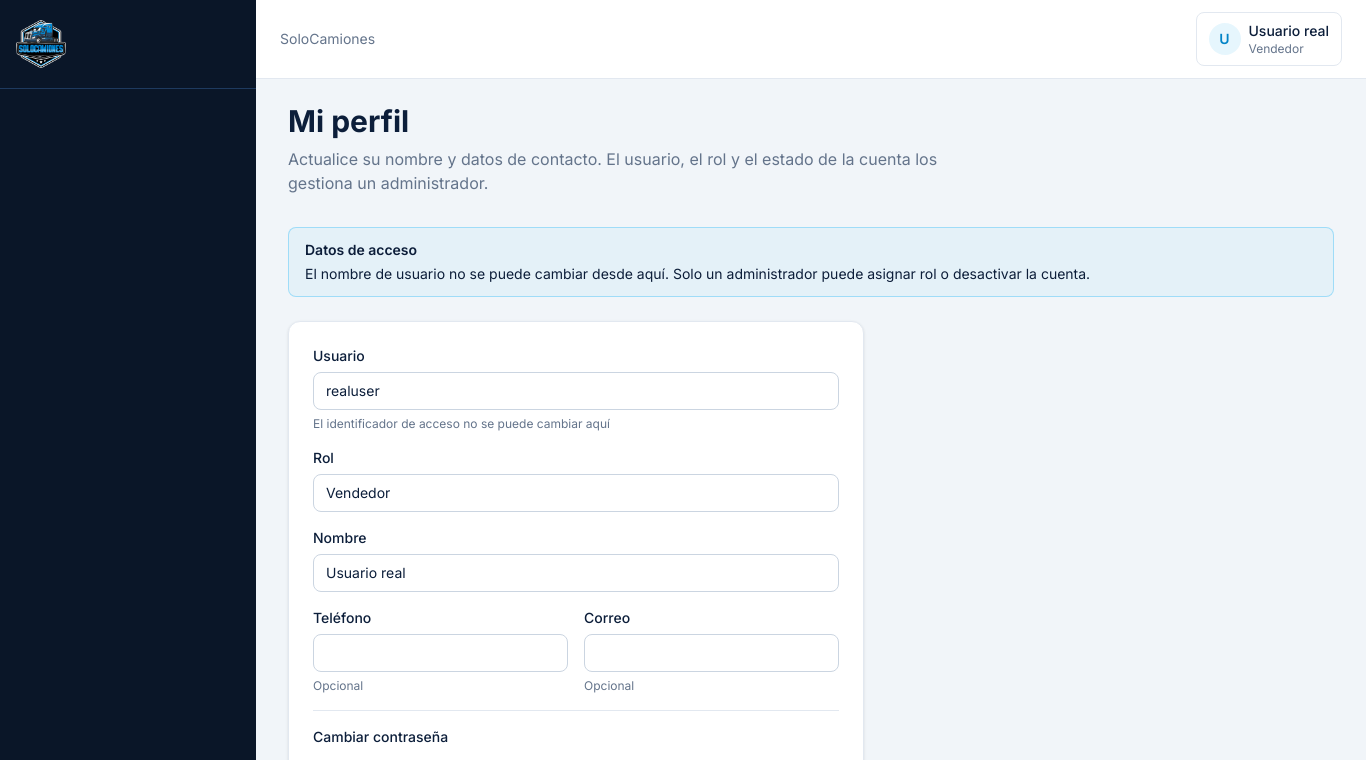
Test: Release 1 HTTP auth UI › a failed logout retains the session and reports the connection error
The width and height of the screenshot is (1366, 760).
Click the button with aria-label "Cuenta de": (1269, 39) [1196,12,1342,66]
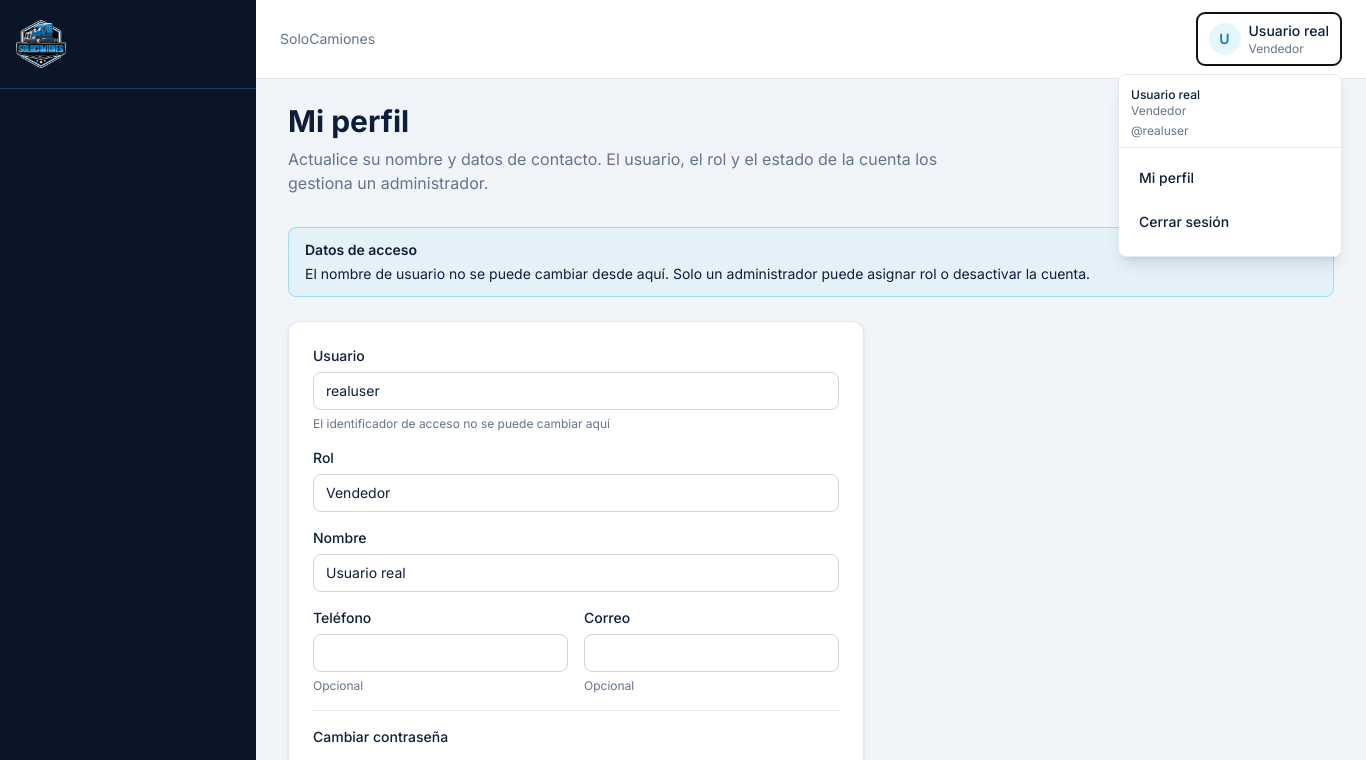
Click the menu item "Cerrar sesión": (1230, 222) [1127,200,1333,244]
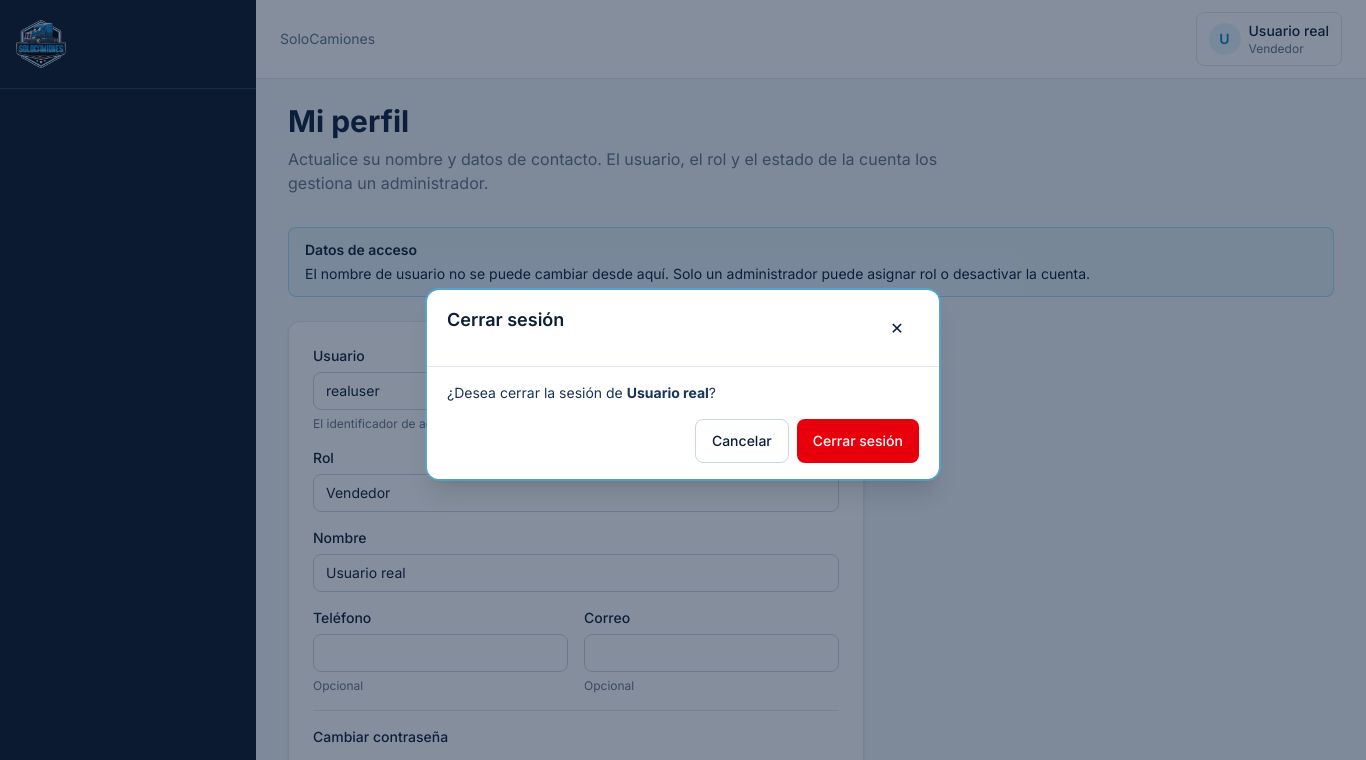
Click the button "Cerrar sesión": (858, 440) [797,418,919,462]
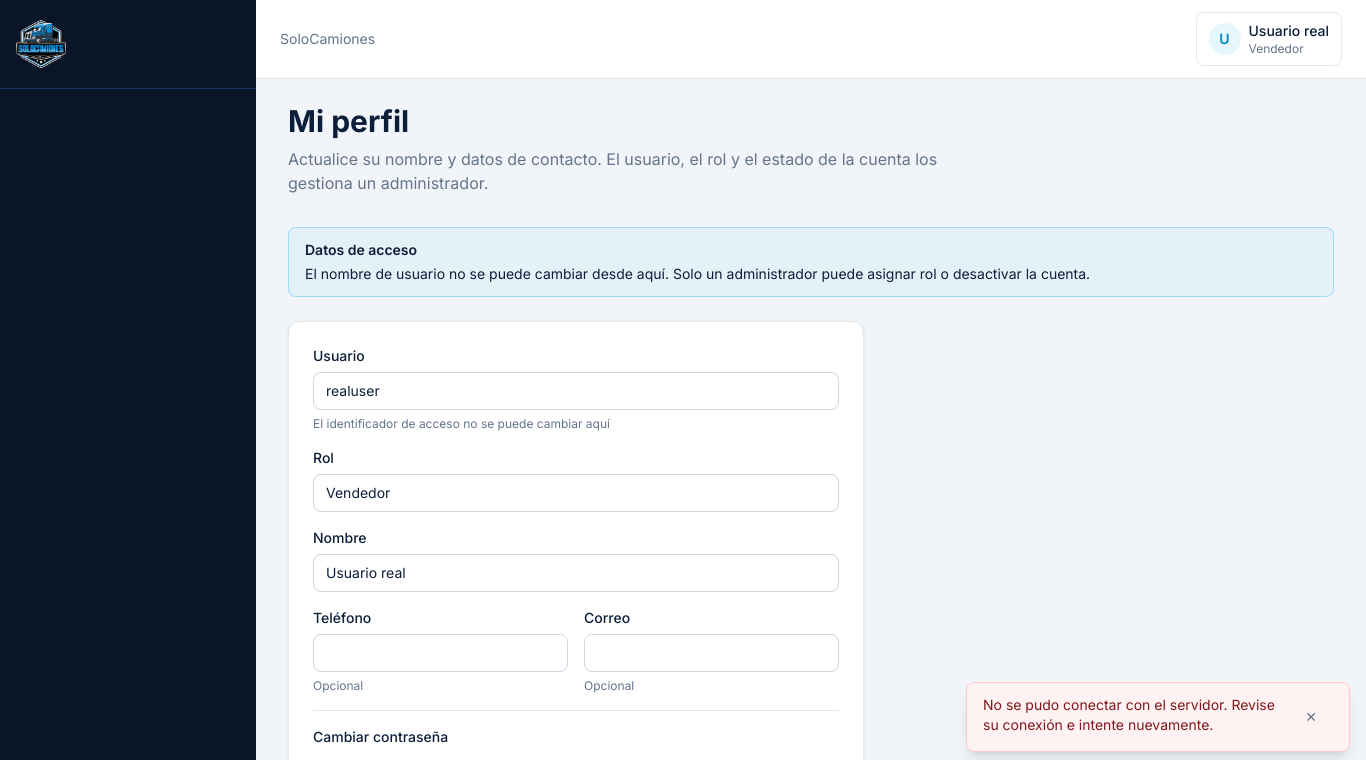
Expected: the heading "Mi perfil" is shown, [288,103,409,139]
Now the text "No se pudo conectar con el servidor" is shown, box [983,696,1275,733]
